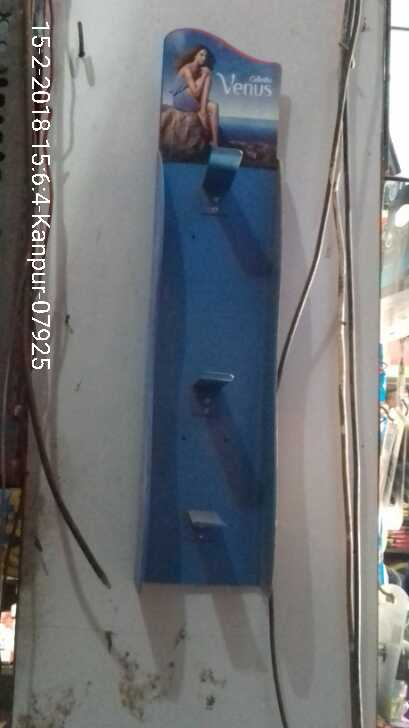reject: (90, 205, 237, 478)
